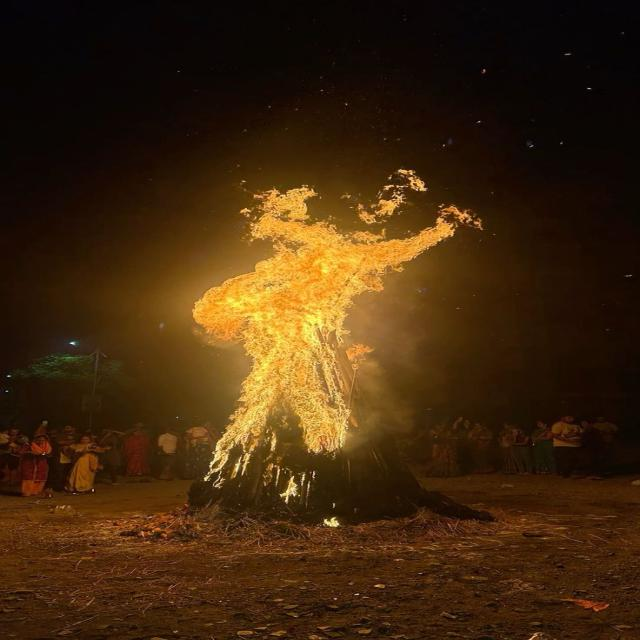fire: (186, 167, 487, 488)
